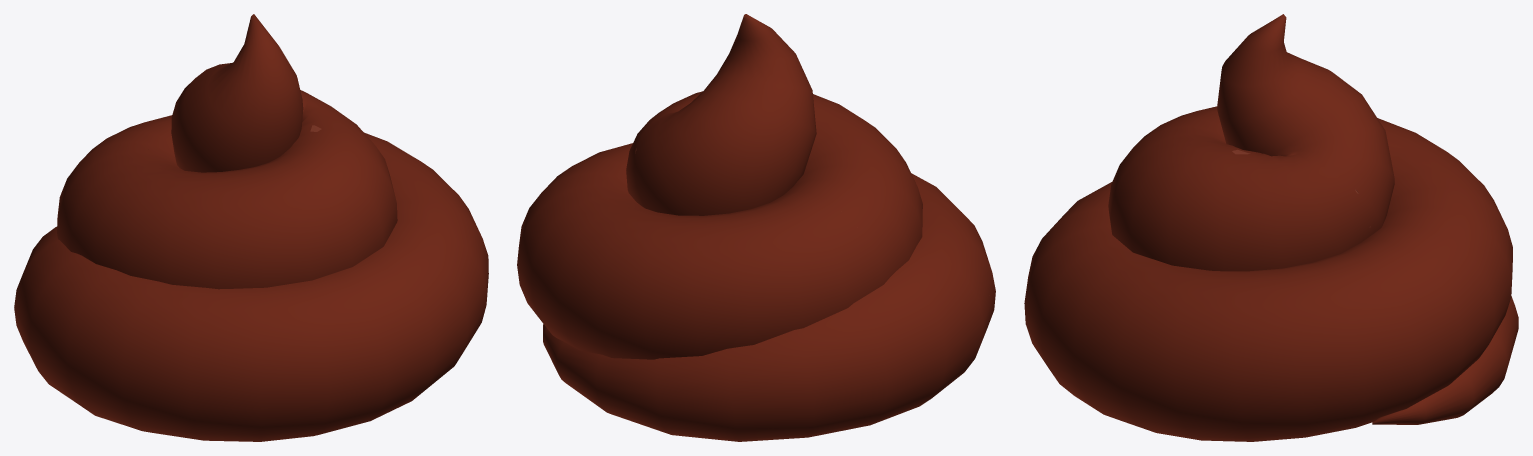
File: pashalka_root.fbx
3 renders of one model, left to right at view 1: azimuth 30°, elevation 25°; view 2: azimuth 150°, elevation 25°; view 3: azimuth 270°, elevation 25°, orthographic. The views are drawn at different scales.
Parts seen in each view (by area): view 1: pashalka_sh_105, pashalka_sh_88, pashalka_sh_78, pashalka_sh_38, pashalka_sh_73, pashalka_sh_19, pashalka_sh_69, pashalka_sh_47, pashalka_sh_71, pashalka_sh_53, pashalka_sh_41, pashalka_sh_28 (+29 smaller); view 2: pashalka_sh_16, pashalka_sh_58, pashalka_sh_69, pashalka_sh_34, pashalka_sh_90, pashalka_sh_9, pashalka_sh_17, pashalka_sh_44, pashalka_sh_39, pashalka_sh_63, pashalka_sh_20, pashalka_sh_71 (+34 smaller); view 3: pashalka_sh_76, pashalka_sh_29, pashalka_sh_47, pashalka_sh_99, pashalka_sh_5, pashalka_sh_9, pashalka_sh_22, pashalka_sh_105, pashalka_sh_37, pashalka_sh_30, pashalka_sh_75, pashalka_sh_26 (+26 smaller).
Boxes of the visible parts, bbox=[...] form: pashalka_sh_105: bbox=[310, 248, 453, 361]; pashalka_sh_88: bbox=[146, 179, 289, 289]; pashalka_sh_78: bbox=[165, 288, 301, 410]; pashalka_sh_38: bbox=[286, 332, 444, 433]; pashalka_sh_73: bbox=[181, 149, 330, 252]; pashalka_sh_19: bbox=[94, 333, 216, 440]; pashalka_sh_69: bbox=[21, 248, 95, 365]; pashalka_sh_47: bbox=[381, 218, 487, 381]; pashalka_sh_71: bbox=[83, 178, 161, 278]; pashalka_sh_53: bbox=[85, 279, 179, 365]; pashalka_sh_41: bbox=[324, 142, 386, 232]; pashalka_sh_28: bbox=[243, 291, 323, 367]; pashalka_sh_16: bbox=[722, 298, 890, 415]; pashalka_sh_58: bbox=[575, 248, 698, 359]; pashalka_sh_69: bbox=[871, 259, 985, 364]; pashalka_sh_34: bbox=[772, 185, 881, 305]; pashalka_sh_90: bbox=[697, 290, 823, 355]; pashalka_sh_9: bbox=[523, 216, 588, 335]; pashalka_sh_17: bbox=[721, 14, 800, 130]; pashalka_sh_44: bbox=[713, 220, 817, 290]; pashalka_sh_39: bbox=[650, 379, 783, 441]; pashalka_sh_63: bbox=[629, 233, 716, 334]; pashalka_sh_20: bbox=[664, 121, 764, 178]; pashalka_sh_71: bbox=[854, 166, 922, 267]; pashalka_sh_76: bbox=[1170, 153, 1359, 268]; pashalka_sh_29: bbox=[1186, 329, 1361, 437]; pashalka_sh_47: bbox=[1056, 251, 1176, 414]; pashalka_sh_99: bbox=[1148, 266, 1266, 386]; pashalka_sh_5: bbox=[1332, 288, 1447, 401]; pashalka_sh_9: bbox=[1425, 242, 1501, 372]; pashalka_sh_22: bbox=[1225, 32, 1313, 156]; pashalka_sh_105: bbox=[1028, 213, 1130, 365]; pashalka_sh_37: bbox=[1304, 76, 1382, 193]; pashalka_sh_30: bbox=[1259, 280, 1351, 345]; pashalka_sh_75: bbox=[1346, 231, 1435, 310]; pashalka_sh_26: bbox=[1101, 378, 1209, 440].
Bounding box in the file's own units: 427 × 348 × 416.
